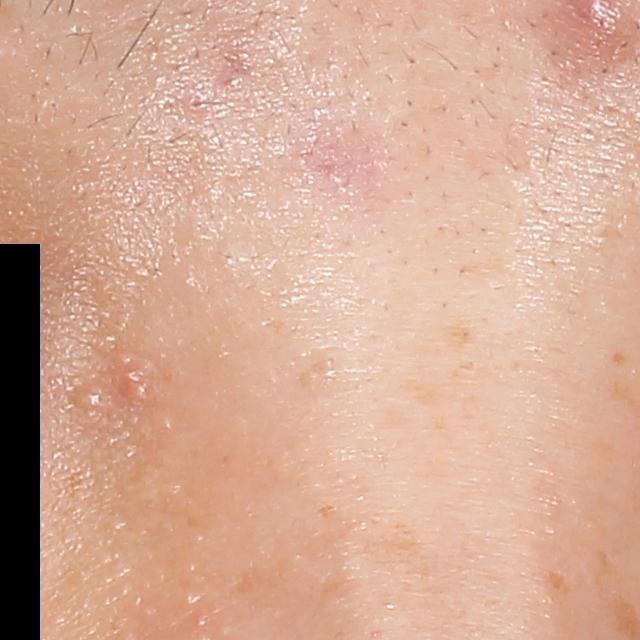comedo: (70, 388, 103, 415)
melasma: (214, 498, 430, 628), (438, 312, 480, 348), (543, 570, 570, 596), (611, 350, 628, 367)
